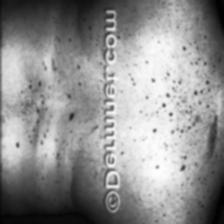Potentially Malignant Skin Tumors: (189, 104, 217, 158), (62, 102, 77, 125)
